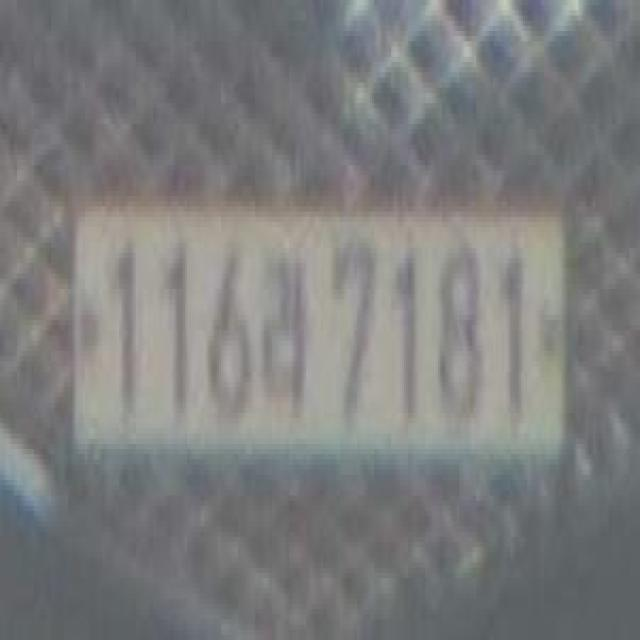illegal_plate: (66, 187, 562, 505)
